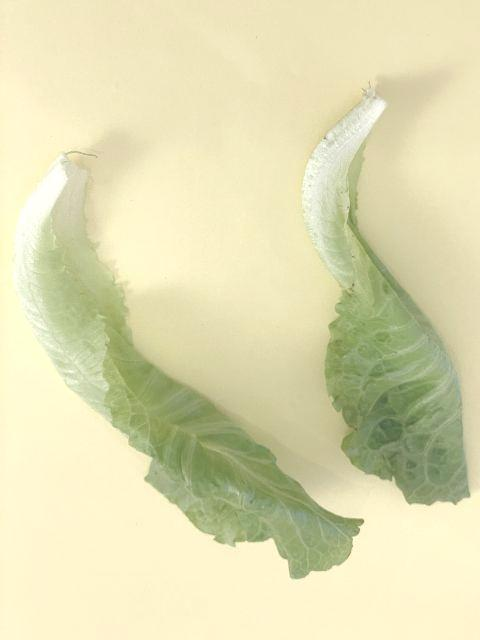lettuce: (10, 148, 366, 580), (300, 84, 472, 506)
